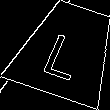L_N: (41, 22, 93, 80)
